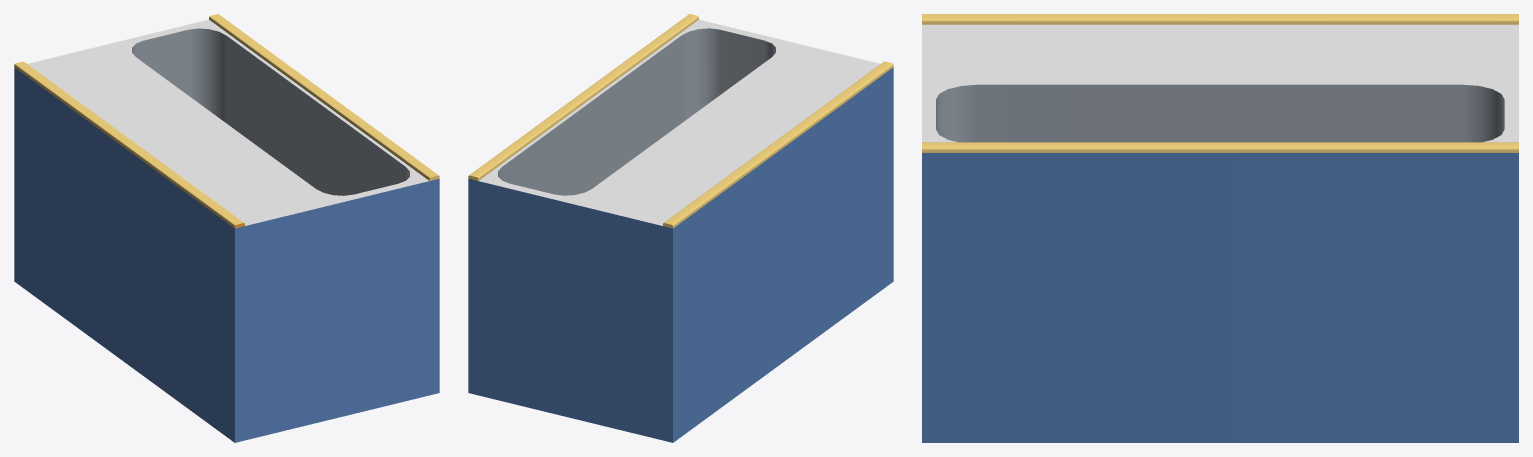
3 renders of one model, left to right at view 1: azimuth 30°, elevation 25°; view 2: azimuth 150°, elevation 25°; view 3: azimuth 270°, elevation 25°, orthographic. The views are drawn at different scales.
Visible parts, largest first — view 1: e6; view 2: e6; view 3: e6.
Boxes of the visible parts, bbox=[...] form: e6: bbox=[14, 14, 439, 442]; e6: bbox=[468, 14, 893, 442]; e6: bbox=[922, 14, 1518, 442].
Size of the model in its own units: 700 by 711 by 1306.
Materials: 1 (1 with a texture image).
